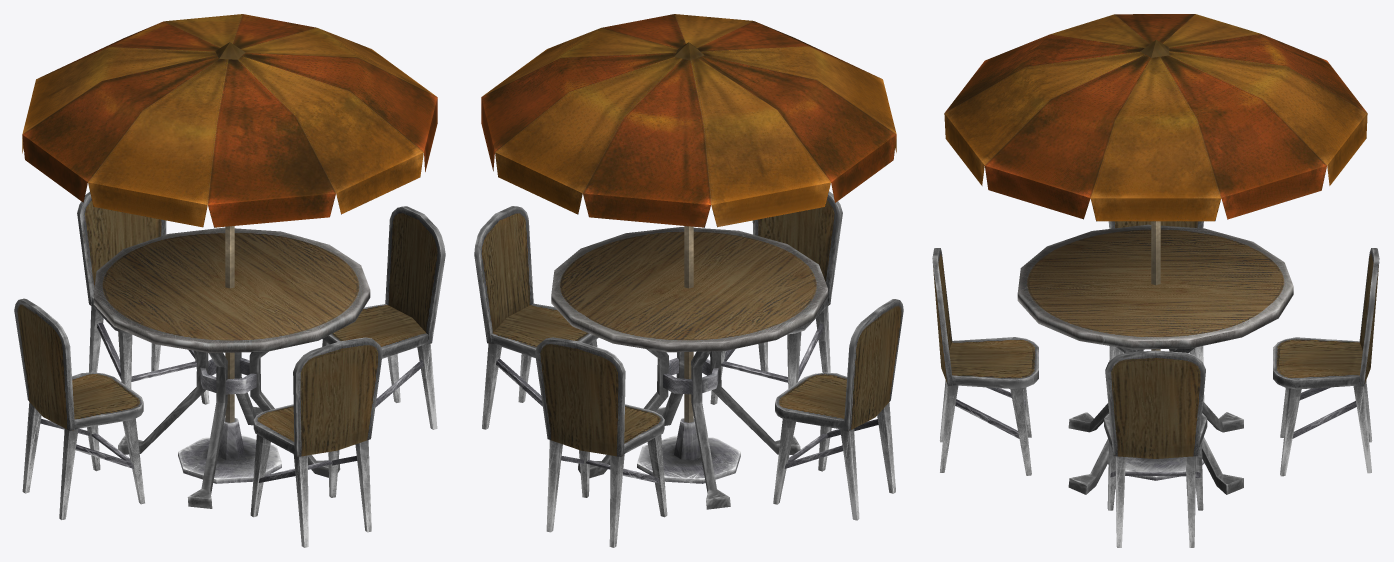
File: chair table.FBX
3 views of the same model, side by side, from view 1: azimuth 30°, elevation 25°; view 2: azimuth 150°, elevation 25°; view 3: azimuth 270°, elevation 25° (orthographic).
Visible parts, largest first — view 1: chair table; view 2: chair table; view 3: chair table.
Boxes of the visible parts, box(x1,y1,x2,y2) form: chair table: box(14, 14, 445, 547); chair table: box(474, 14, 903, 547); chair table: box(932, 14, 1379, 547).
Size of the model in its own units: 155 by 160 by 155.
